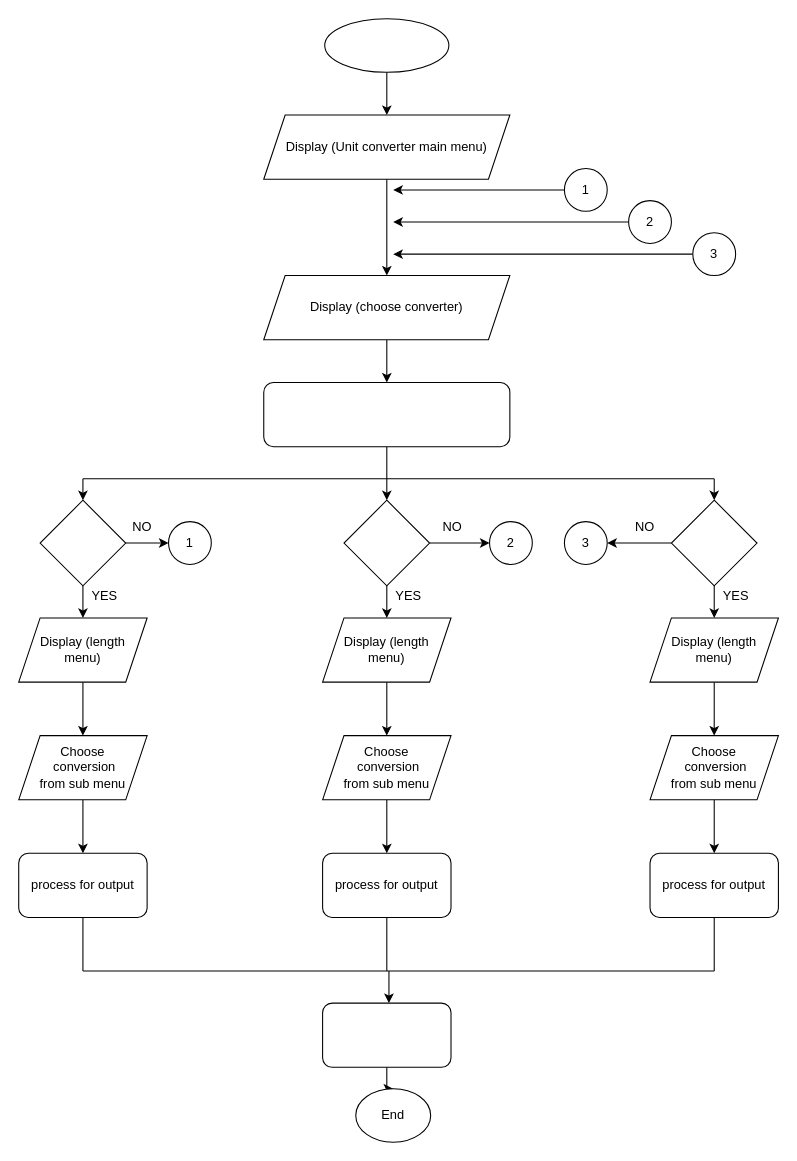
Image size: 797x1161. Some labels were removed from this diagram. The shapes that lost their labels are listed below. From the top down, each one's box as (x1, y1, x2, y2) in pixels, then its label:
(324, 18, 449, 72): Start
(263, 381, 510, 447): Process chosen converter
(39, 499, 126, 586): LENGTH
(343, 499, 430, 586): WEIGHT
(670, 499, 757, 586): TEMP
(322, 1002, 451, 1067): Print Result
